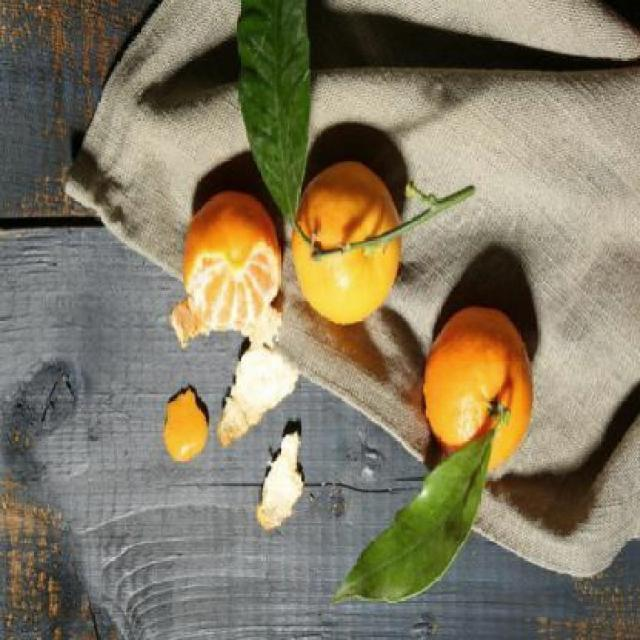Jeruk Sudah Matang: (424, 313, 538, 470), (296, 166, 402, 322), (180, 195, 282, 332)
